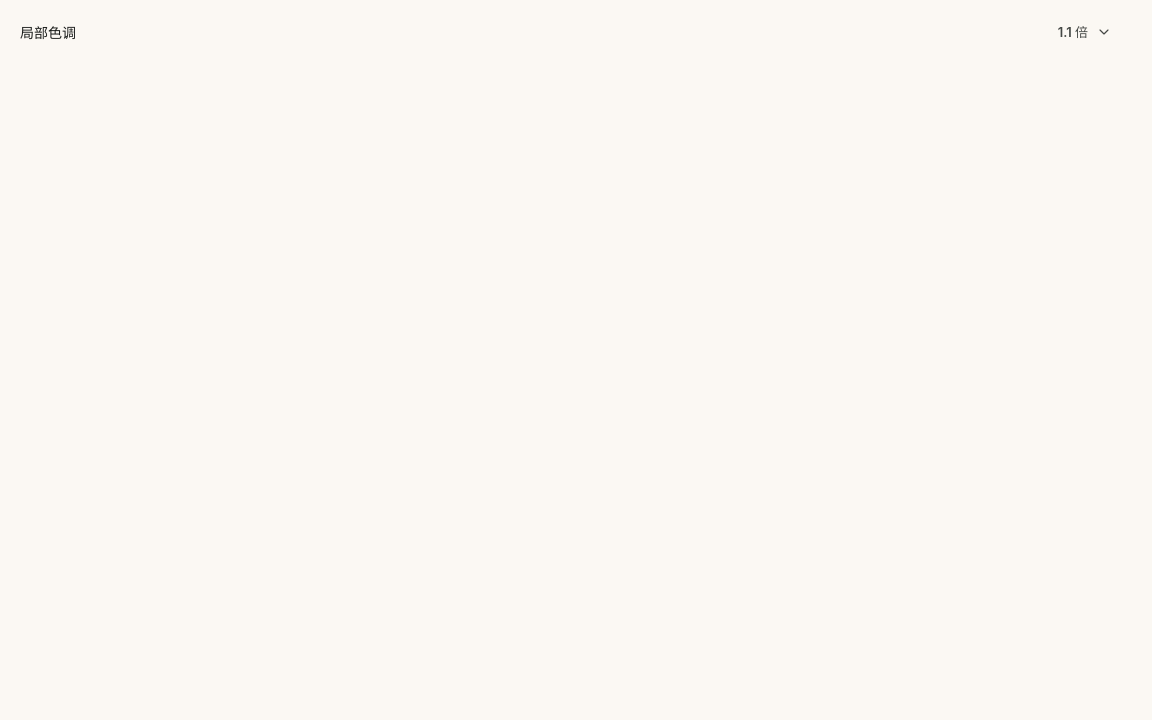
Scenario: numeric slider › shows the value bubble only while pressed and follows the snapped thumb
Click the button "局部色调 1.1 倍".
click(48, 32)  # box [0, 0, 1151, 64]
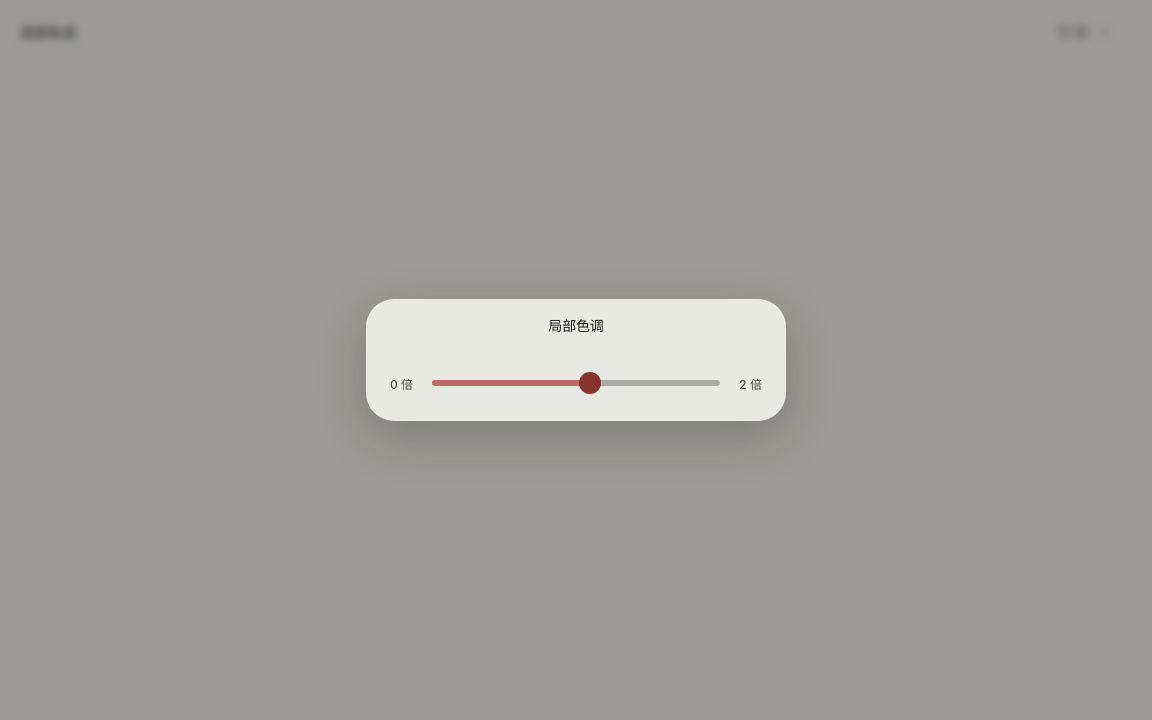
Now the text "0 倍" is shown, box [390, 375, 413, 392]
Now the text "2 倍" is shown, box [739, 375, 762, 392]
Press the mouse on the slider named "局部色调" at (576, 383), box [421, 361, 731, 405]
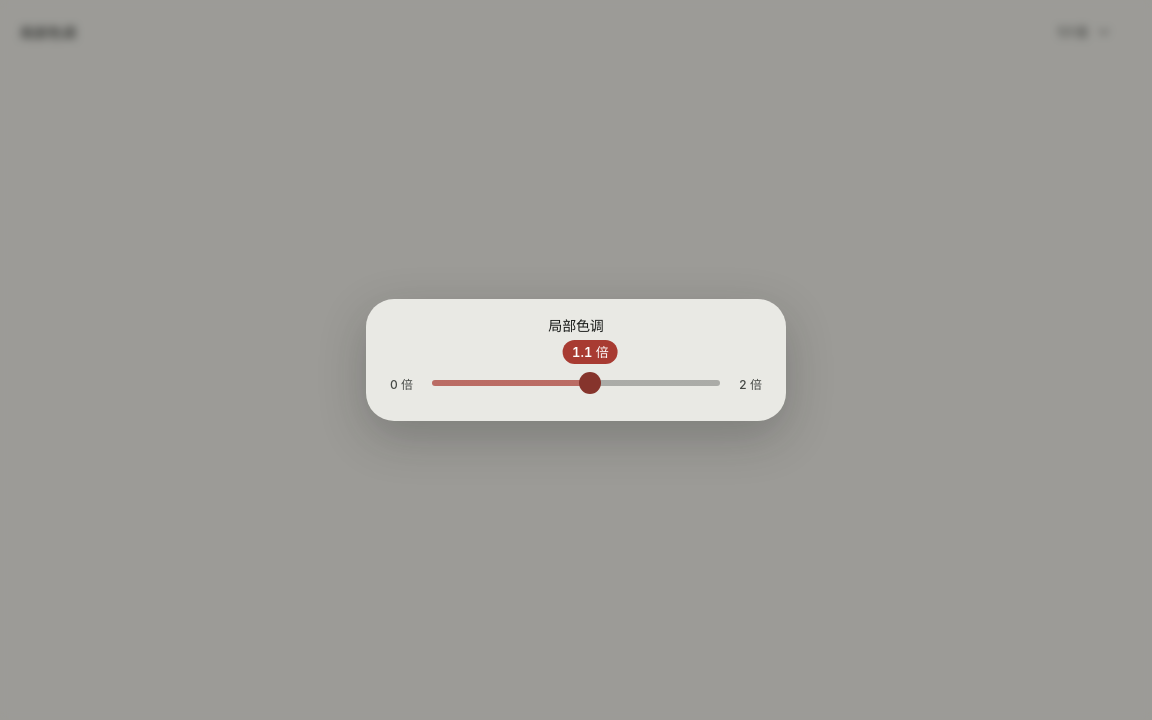
Set the slider named "局部色调" to "2" at (723, 383), box [421, 361, 731, 405]
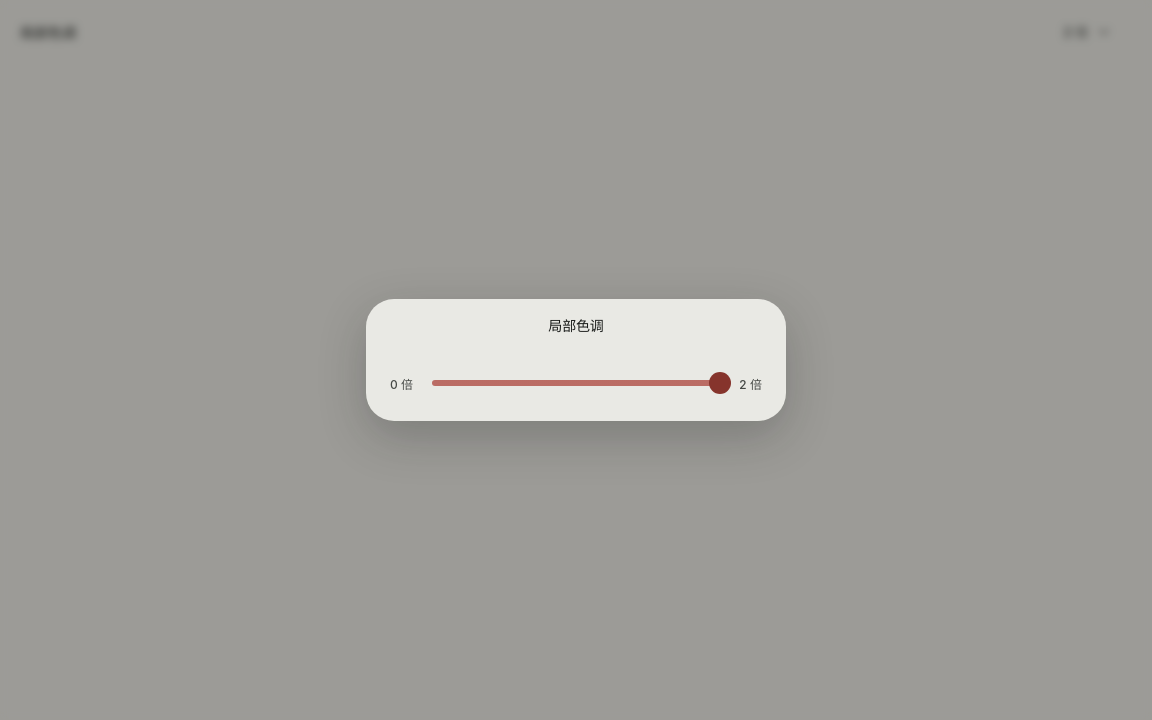
Now the element named "局部色调" does not have attribute data-pressed
Press the mouse on the slider named "局部色调" at (576, 383), box [421, 361, 731, 405]
Now the element named "局部色调" does not have attribute data-pressed, box [421, 361, 731, 405]
